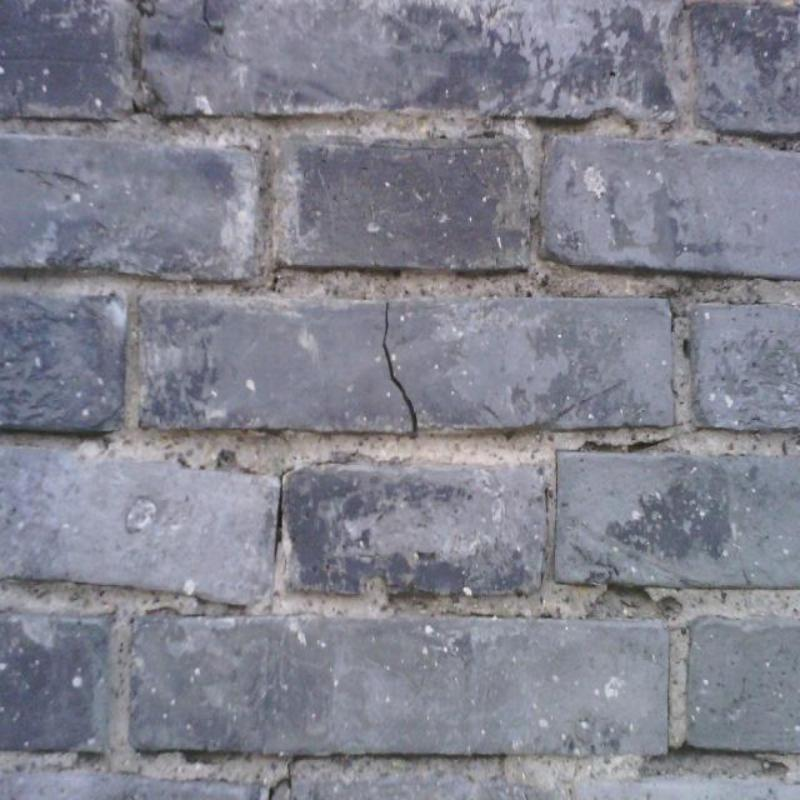pothole: (381, 304, 417, 435), (268, 754, 328, 799), (271, 464, 294, 560), (581, 440, 665, 453)
